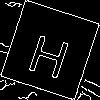H: (25, 25, 76, 80)
